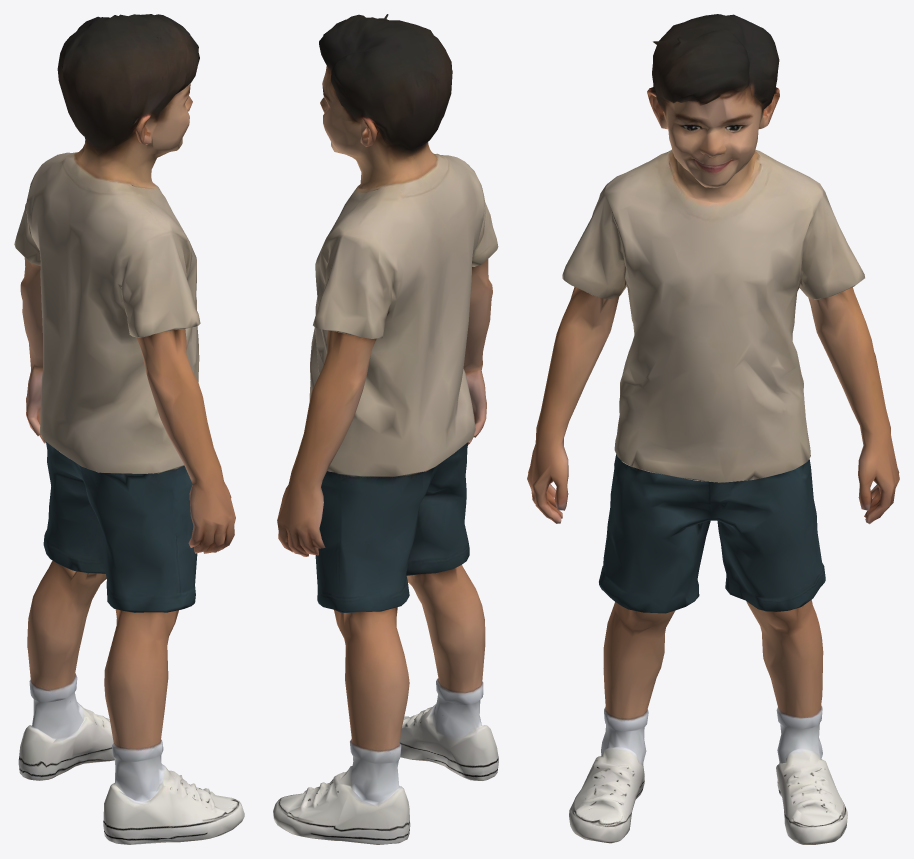
File: person-child.glb
3 renders of one model, left to right at view 1: azimuth 30°, elevation 25°; view 2: azimuth 150°, elevation 25°; view 3: azimuth 270°, elevation 25°, orthographic. The views are drawn at different scales.
Parts seen in each view (by area): view 1: tripo_node_a92f57fb-7d3f-4dbc-b12d-2ed8044f91c3; view 2: tripo_node_a92f57fb-7d3f-4dbc-b12d-2ed8044f91c3; view 3: tripo_node_a92f57fb-7d3f-4dbc-b12d-2ed8044f91c3.
Part boxes in pixels (x1,y1,x2,y2): tripo_node_a92f57fb-7d3f-4dbc-b12d-2ed8044f91c3: (14, 14, 244, 844); tripo_node_a92f57fb-7d3f-4dbc-b12d-2ed8044f91c3: (273, 14, 498, 844); tripo_node_a92f57fb-7d3f-4dbc-b12d-2ed8044f91c3: (527, 14, 899, 844).
Size of the model in its own units: 0.1808 by 1 by 0.4243.
Materials: 1 (1 with a texture image).
